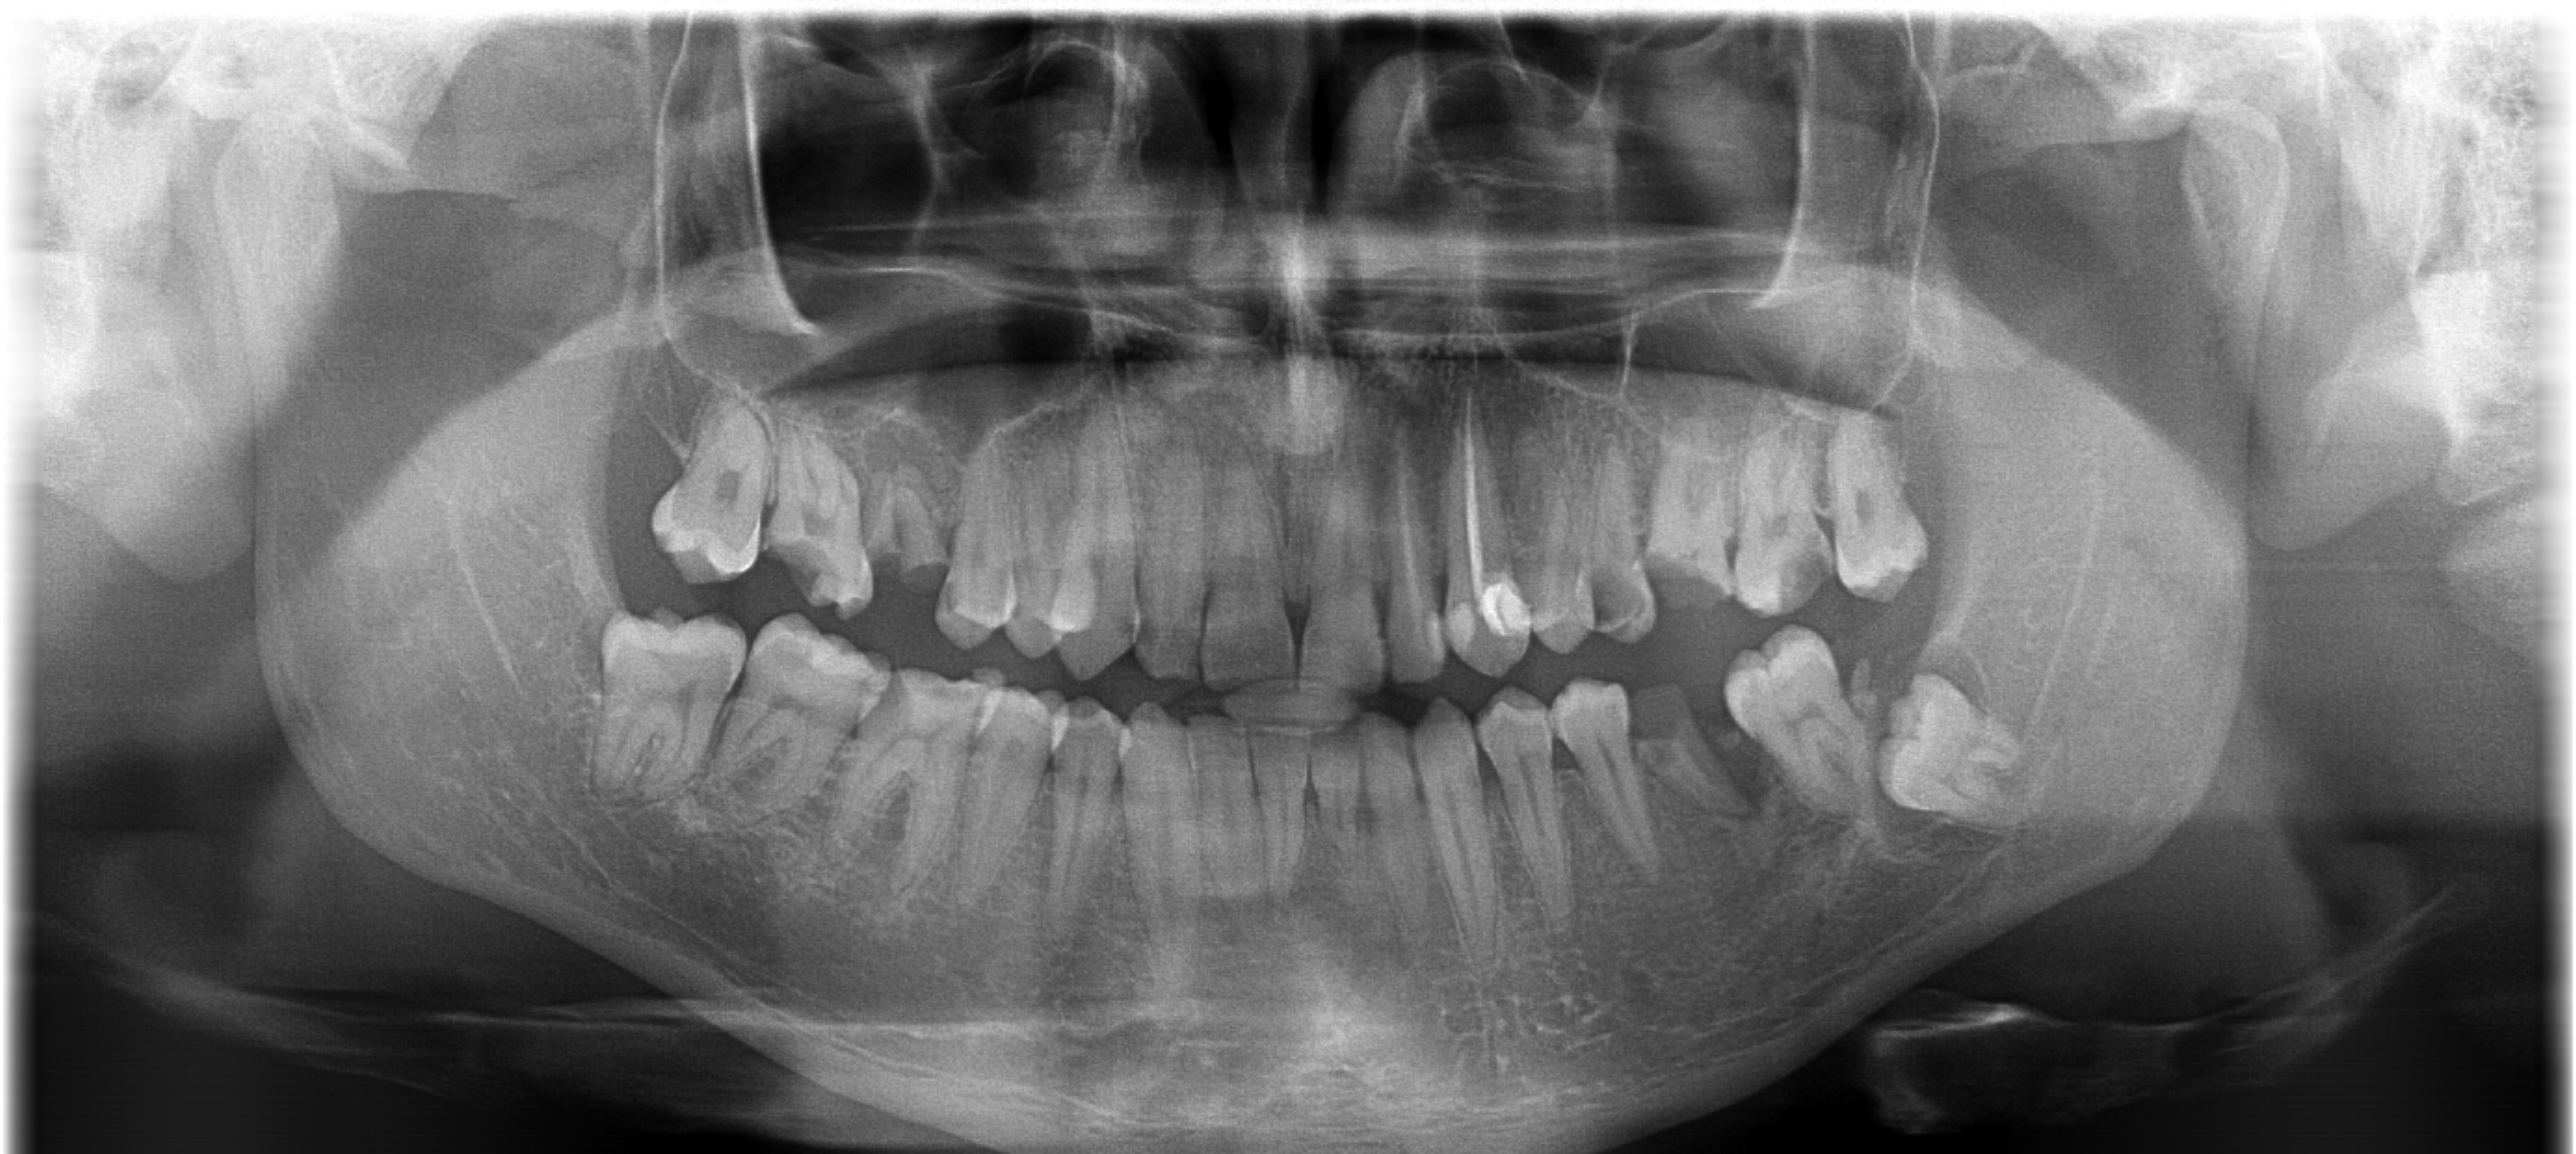caries: (1718, 496, 1860, 638), (1551, 528, 1692, 669)
cordal: (577, 365, 813, 592), (547, 598, 782, 824), (1833, 646, 2063, 856)
resto_radicular: (843, 418, 982, 618), (1615, 421, 1755, 621), (1610, 651, 1750, 852)
